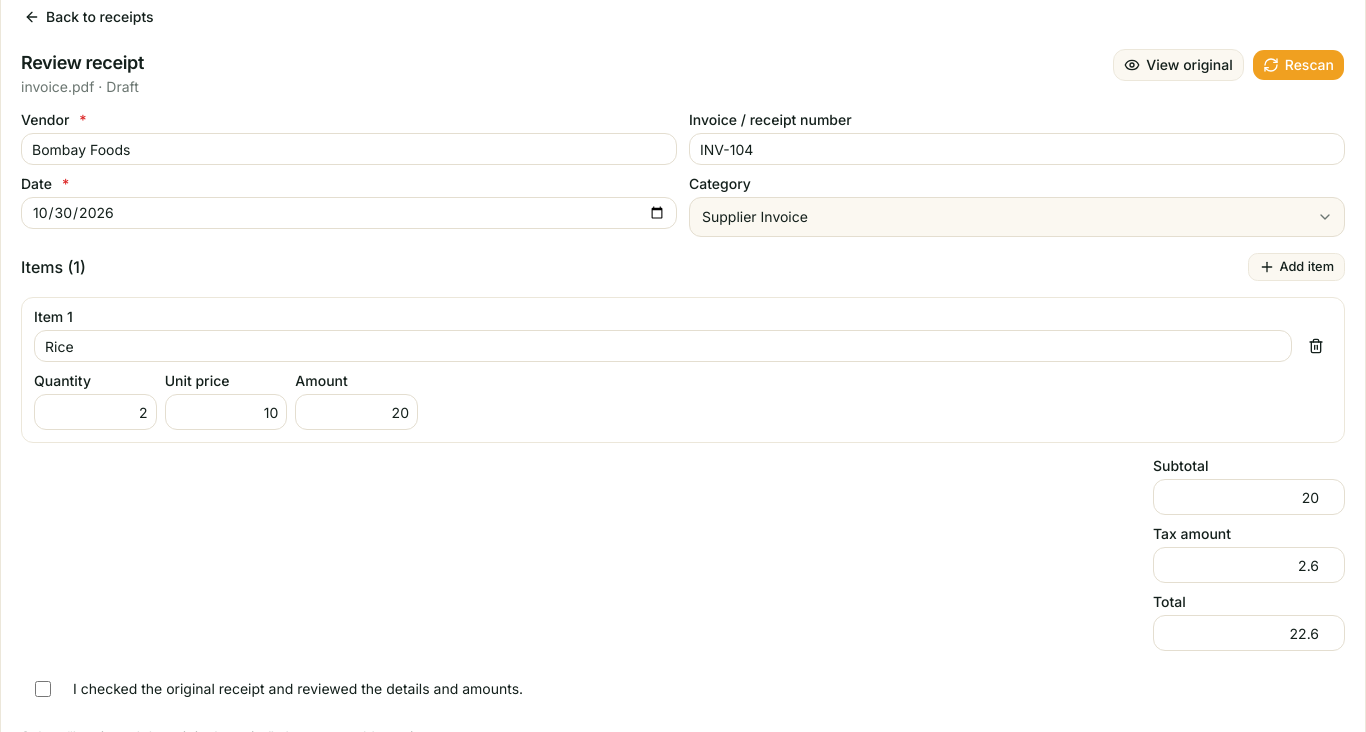
Test: shows save failures beside the save action and keeps corrected details
What coordinates should you click on to do the following:
click the checkbox
I would click on:
 (43, 689)
Its box is 35,681 -> 51,697.
(page scrolled)
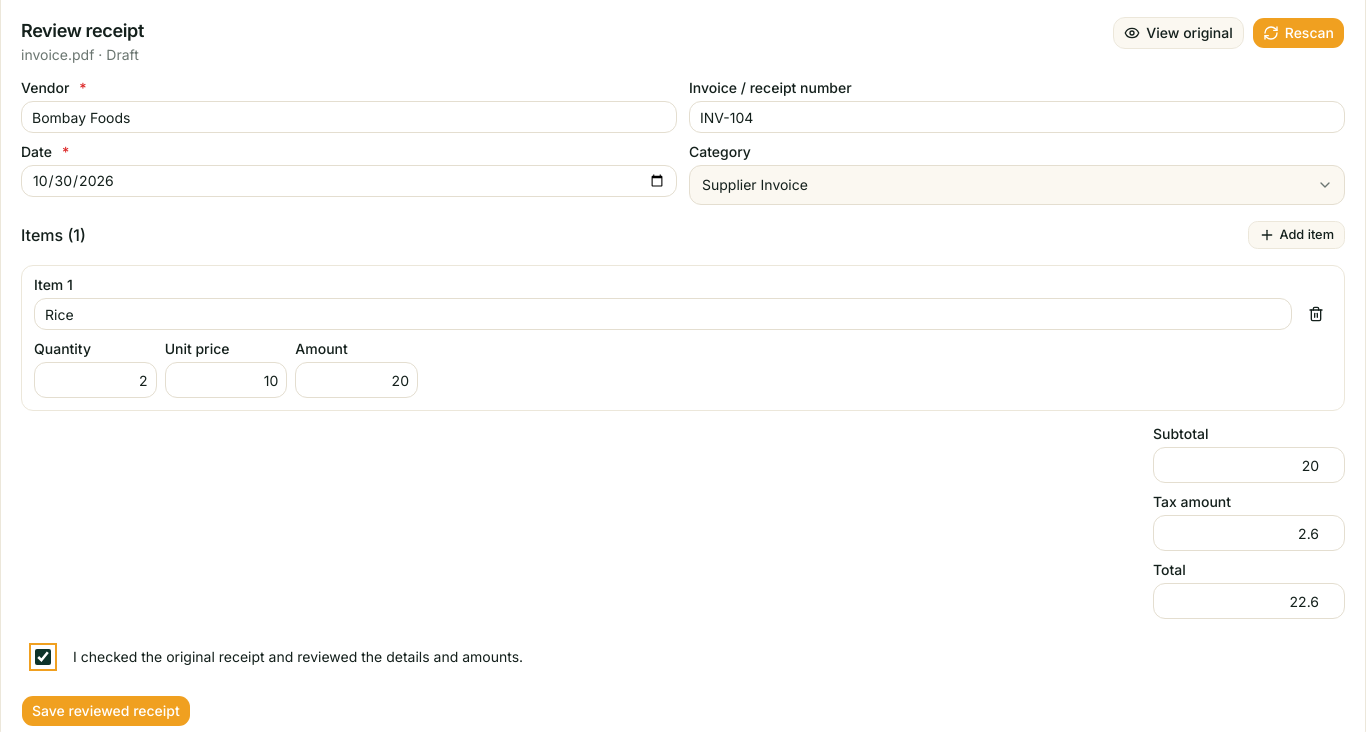
What coordinates should you click on to do the following:
click the button "Save reviewed receipt"
I would click on:
 (106, 711)
Its box is 21,695 -> 191,727.
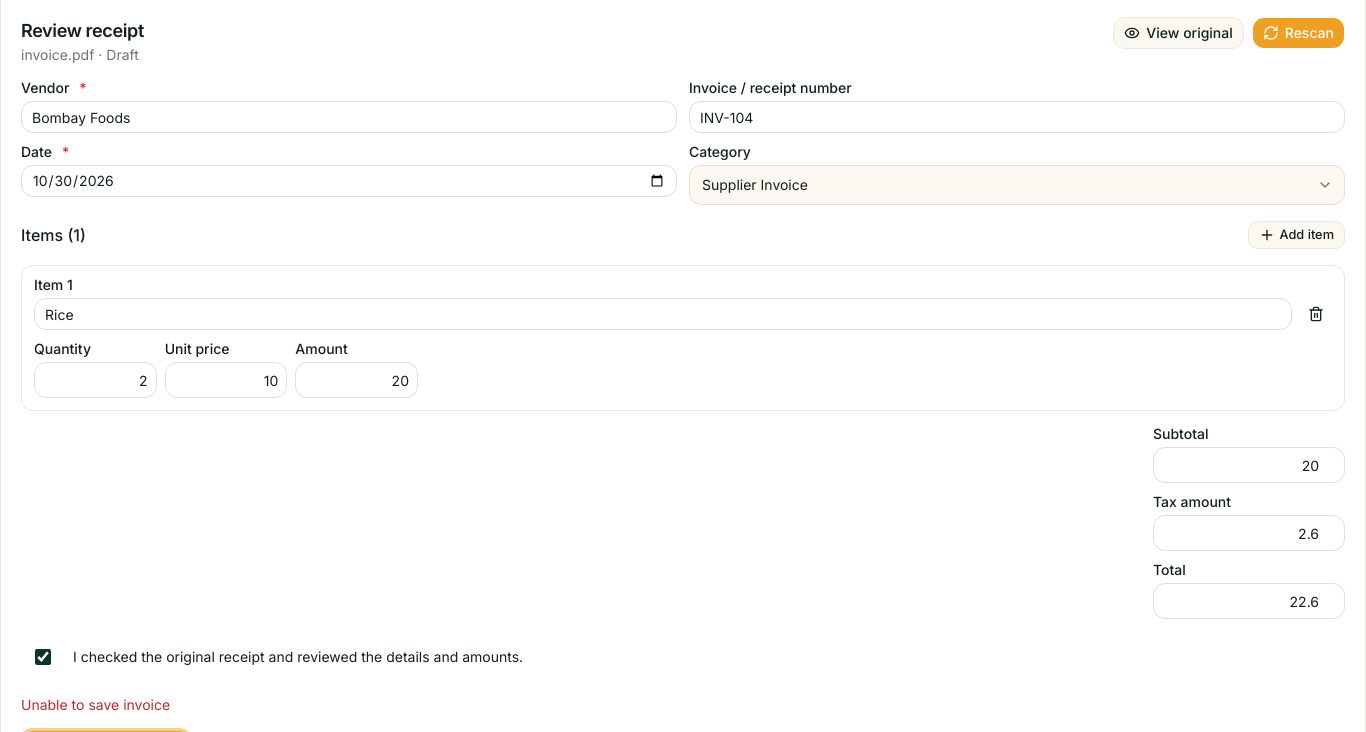
expect the field labelled "Vendor *" holds "Bombay Foods": met, box 21,101 -> 677,133
expect the message reads "Unable to save invoice": met, box 21,696 -> 170,713
